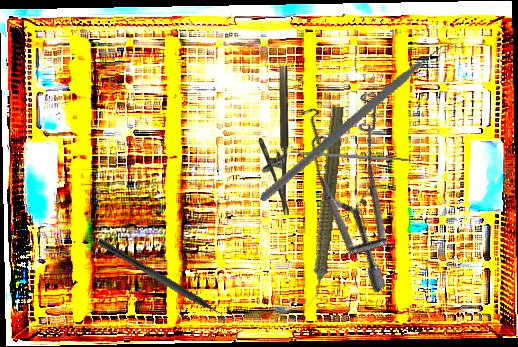Chopper: (259, 1, 465, 246), (91, 237, 234, 331)
Handpiece: (302, 105, 348, 309)
Needle Holder: (259, 66, 289, 215)
Scalpel Handle: (290, 149, 411, 164)
Speculum: (255, 68, 475, 296)
